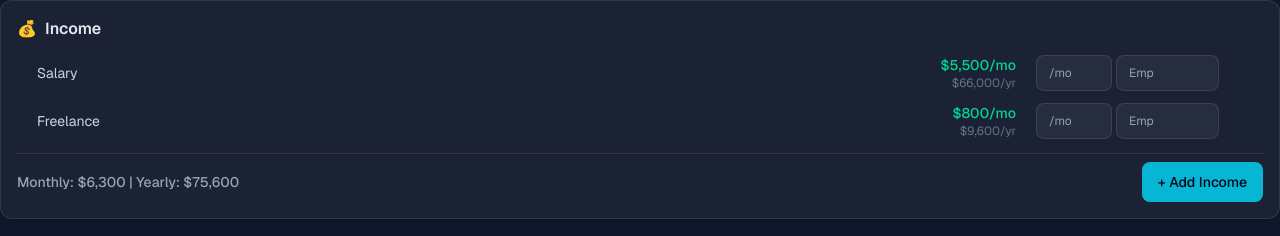
IncomeEntry frequency UI › changes frequency and updates monthly total
# Change Salary ($5,500) from monthly to annually
Select "/yr" in the dropdown with test id "frequency-i1" at (1074, 73), box top-left (1036, 55), bottom-right (1112, 91)
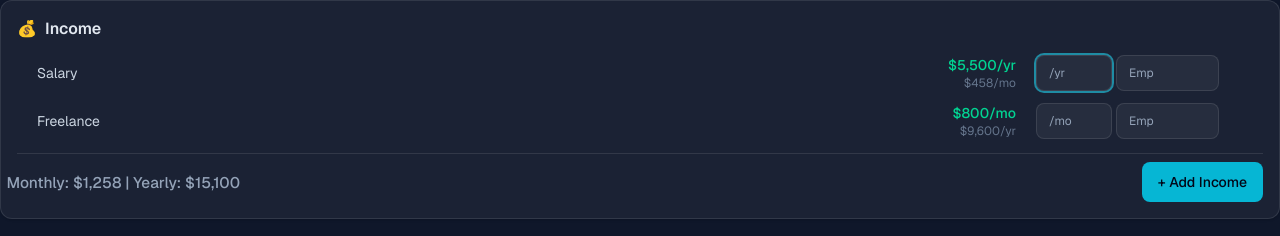
Check: the text with test id "income-monthly-total" reads "$1,258", box top-left (73, 172), bottom-right (122, 192)
